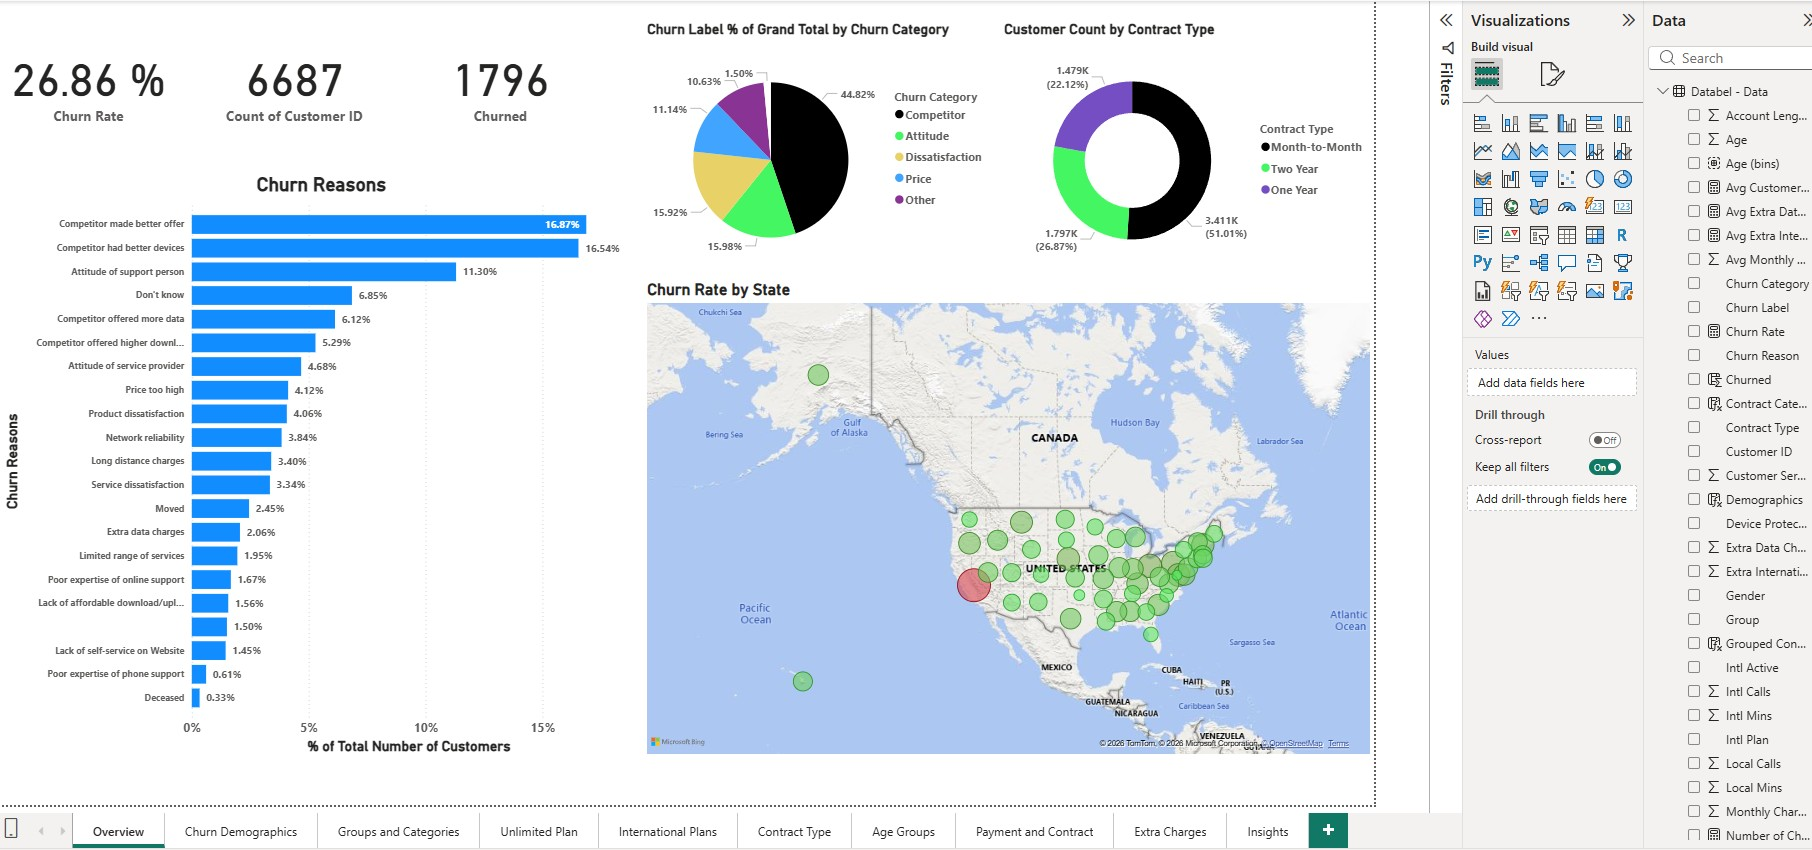

The dashboard page shown, as its layout file describes it:
{"tool":"powerbi","page":{"name":"Overview","canvas":[1640,960],"ordinal":0},"visuals":[{"type":"card","fields":{"Values":["Databel - Data.Churn Rate"]},"box":[0,37,211.3,123],"z":0},{"type":"card","fields":{"Values":["Count(Databel - Data.Customer ID)"]},"box":[246,37,211.3,123],"z":1000},{"type":"card","fields":{"Values":["Sum(Databel - Data.Churned)"]},"box":[491.9,37,211.3,123],"z":2000},{"type":"clusteredBarChart","title":"Churn Reasons","fields":{"Category":["Databel - Data.Churn Reason"],"Y":["CountNonNull(Databel - Data.Number of Customers in Group)"]},"box":[0,205.4,767.8,698.5],"z":3000},{"type":"donutChart","title":"Customer Count by Contract Type","fields":{"Y":["Count(Databel - Data.Customer ID)"],"Category":["Databel - Data.Contract Type"]},"box":[1194,23.9,446.6,314],"z":4000},{"type":"pieChart","title":"Churn Label % of Grand Total by Churn Category","fields":{"Category":["Databel - Data.Churn Category"],"Y":["CountNonNull(Databel - Data.Churn Label)"]},"box":[767.8,23.9,426.3,312.8],"z":5000},{"type":"map","fields":{"Category":["Databel - Data.State"],"Size":["Databel - Data.Churn Rate"]},"box":[767.8,333.1,872.8,570.7],"z":6000}]}

Visuals, with their boxes on the page's 1640x960 design canvas (x1, y1, x2, y2). These are canvas units, not pixel positions in the 1812x850 screenshot, which may show the page scaled, cropped or inside an application window:
card - Databel - Data.Churn Rate: (left=0, top=37, right=211, bottom=160)
card - Count(Databel - Data.Customer ID): (left=246, top=37, right=457, bottom=160)
card - Sum(Databel - Data.Churned): (left=492, top=37, right=703, bottom=160)
"Churn Reasons" clusteredBarChart: (left=0, top=205, right=768, bottom=904)
"Customer Count by Contract Type" donutChart: (left=1194, top=24, right=1641, bottom=338)
"Churn Label % of Grand Total by Churn Category" pieChart: (left=768, top=24, right=1194, bottom=337)
map - Databel - Data.State x Databel - Data.Churn Rate: (left=768, top=333, right=1641, bottom=904)
